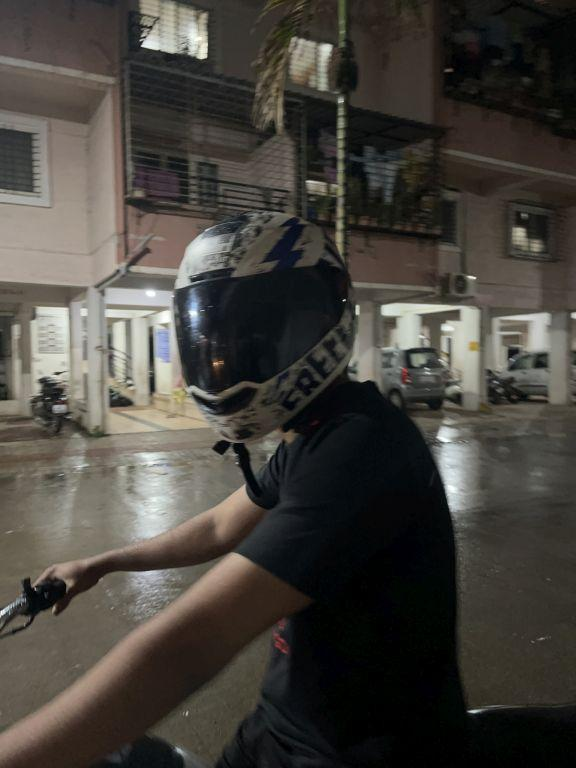helmet: (165, 195, 362, 457)
